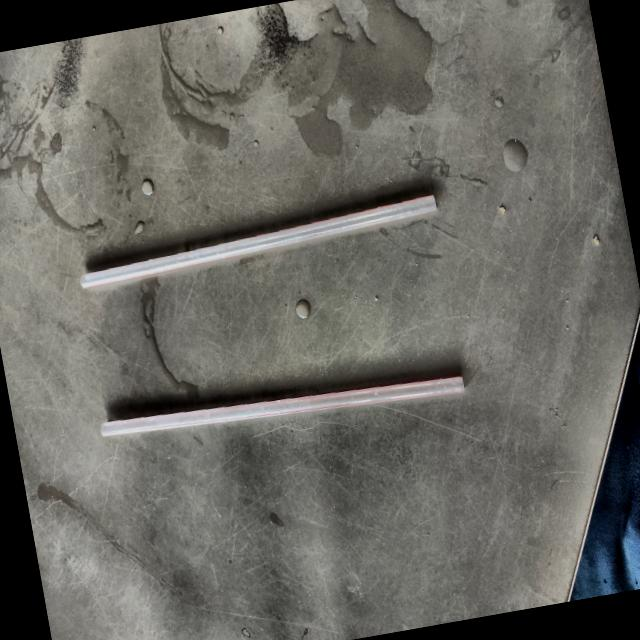plastic straw: (80, 195, 436, 289), (101, 375, 464, 436)
